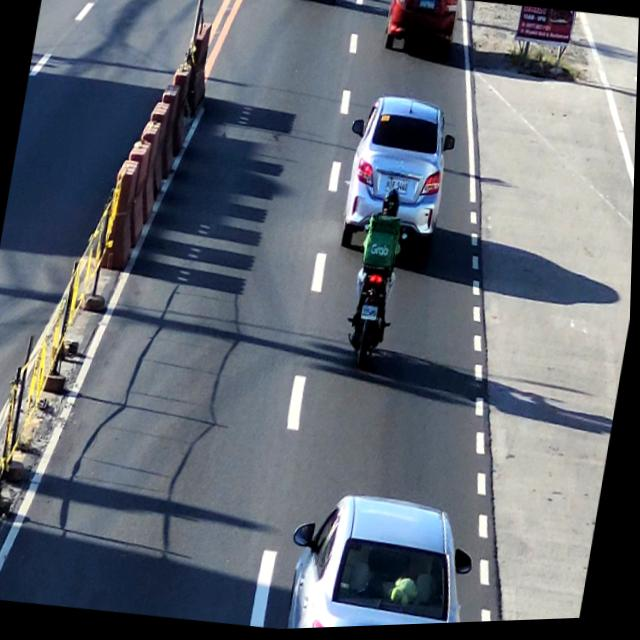Car: (275, 477, 488, 632), (338, 87, 461, 244), (381, 0, 465, 69)
License-Plate: (360, 306, 383, 330), (385, 178, 412, 197), (419, 0, 437, 15)
Motorcycle: (346, 190, 412, 372)
